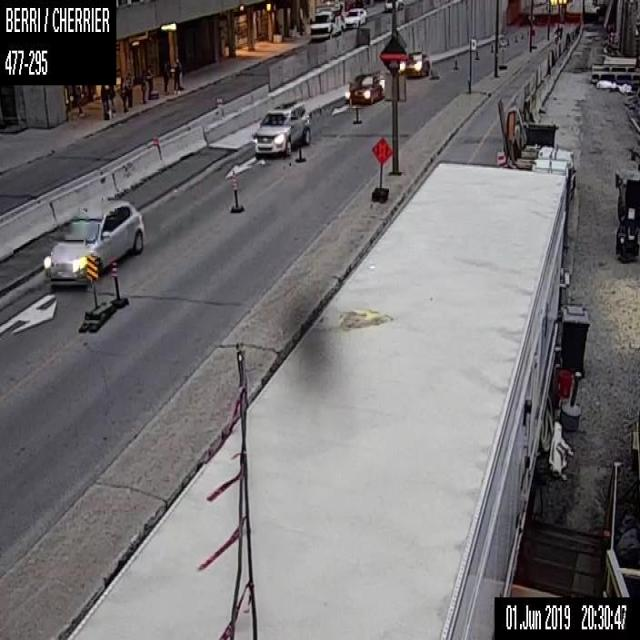construction: (370, 134, 392, 202), (111, 255, 119, 301), (232, 169, 238, 207), (297, 136, 301, 159), (355, 104, 358, 120), (454, 54, 457, 68), (520, 31, 523, 38), (490, 42, 492, 52), (476, 48, 478, 56), (506, 37, 508, 45), (514, 36, 516, 42)
pedestrian: (145, 68, 158, 98), (101, 84, 111, 120), (172, 58, 183, 90), (119, 77, 128, 111), (140, 69, 146, 103), (162, 62, 168, 93)
vehicle: (43, 196, 144, 285), (250, 97, 311, 159), (614, 168, 639, 260), (344, 73, 382, 105), (309, 2, 340, 40), (399, 52, 429, 77), (344, 7, 366, 27), (384, 0, 404, 11), (498, 33, 505, 47)
